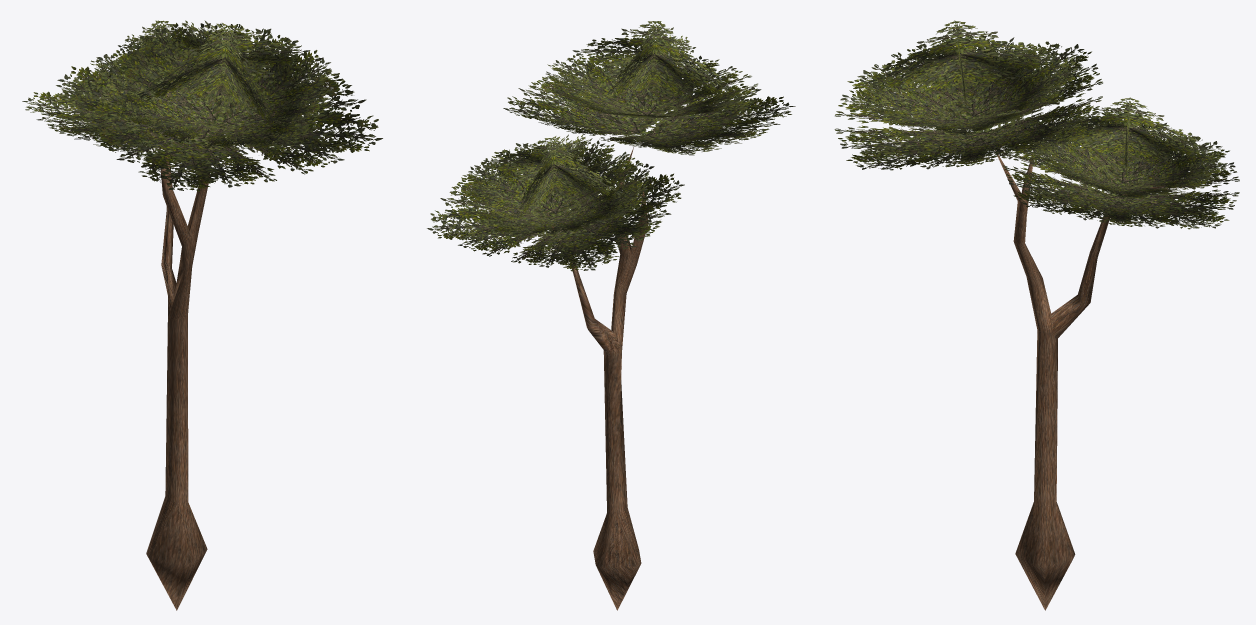
The model's file is decd_dath_fuourn_l2.fbx.
The picture shows the model from 3 angles, left to right: view 1: azimuth 30°, elevation 25°; view 2: azimuth 150°, elevation 25°; view 3: azimuth 270°, elevation 25°; orthographic projection. The views are drawn at different scales.
Parts seen in each view (by area): view 1: mesh_node; view 2: mesh_node; view 3: mesh_node.
Boxes of the visible parts, <box> form: mesh_node: <box>22,20,382,610</box>; mesh_node: <box>427,21,795,610</box>; mesh_node: <box>834,20,1239,610</box>.
Bounding box in the file's own units: 36.01 × 77.86 × 48.28.
